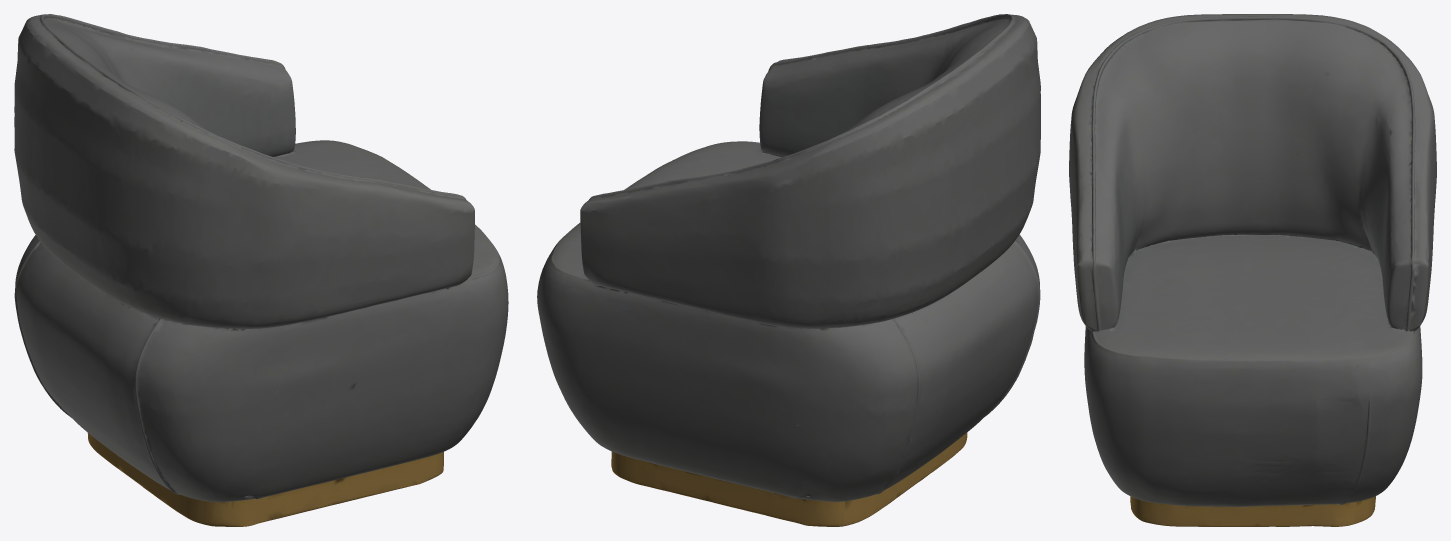
3 renders of one model, left to right at view 1: azimuth 30°, elevation 25°; view 2: azimuth 150°, elevation 25°; view 3: azimuth 270°, elevation 25°, orthographic. The views are drawn at different scales.
Parts seen in each view (by area): view 1: tripo_node_1330ed9b-4970-4fb0-9590-a95c018e54c3; view 2: tripo_node_1330ed9b-4970-4fb0-9590-a95c018e54c3; view 3: tripo_node_1330ed9b-4970-4fb0-9590-a95c018e54c3.
Boxes of the visible parts, <box> form: tripo_node_1330ed9b-4970-4fb0-9590-a95c018e54c3: <box>14,14,508,526</box>; tripo_node_1330ed9b-4970-4fb0-9590-a95c018e54c3: <box>537,14,1040,526</box>; tripo_node_1330ed9b-4970-4fb0-9590-a95c018e54c3: <box>1069,14,1436,526</box>.
Size of the model in its own units: 0.75 by 0.8 by 0.7.
Materials: 1 (1 with a texture image).
